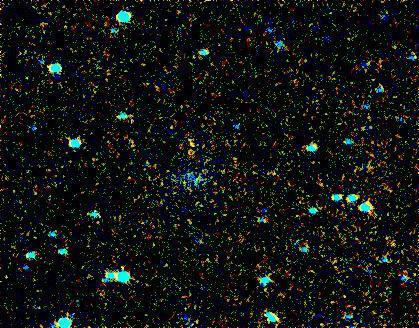star: (167, 133, 197, 163)
